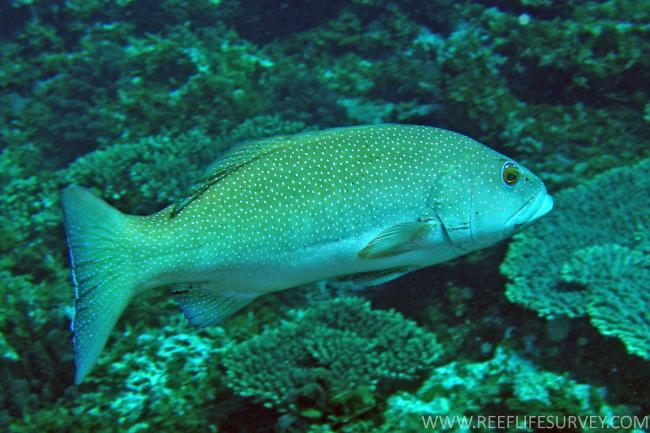fish: (60, 123, 555, 386)
